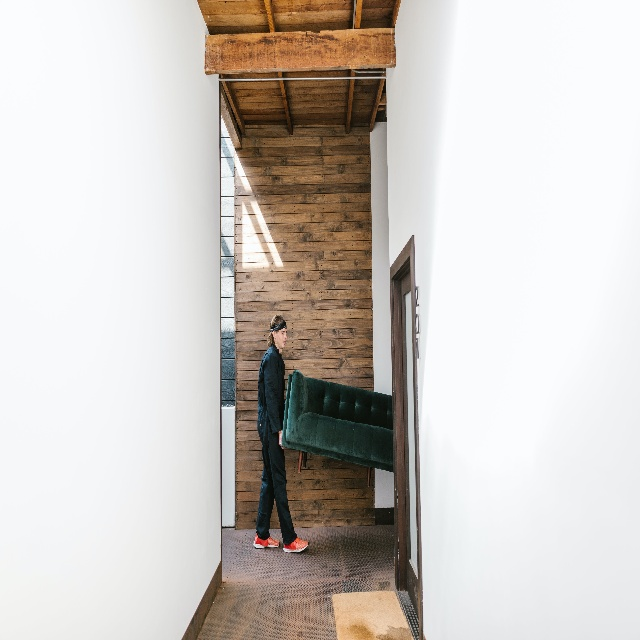Sin_guantes: (278, 432, 286, 450)
